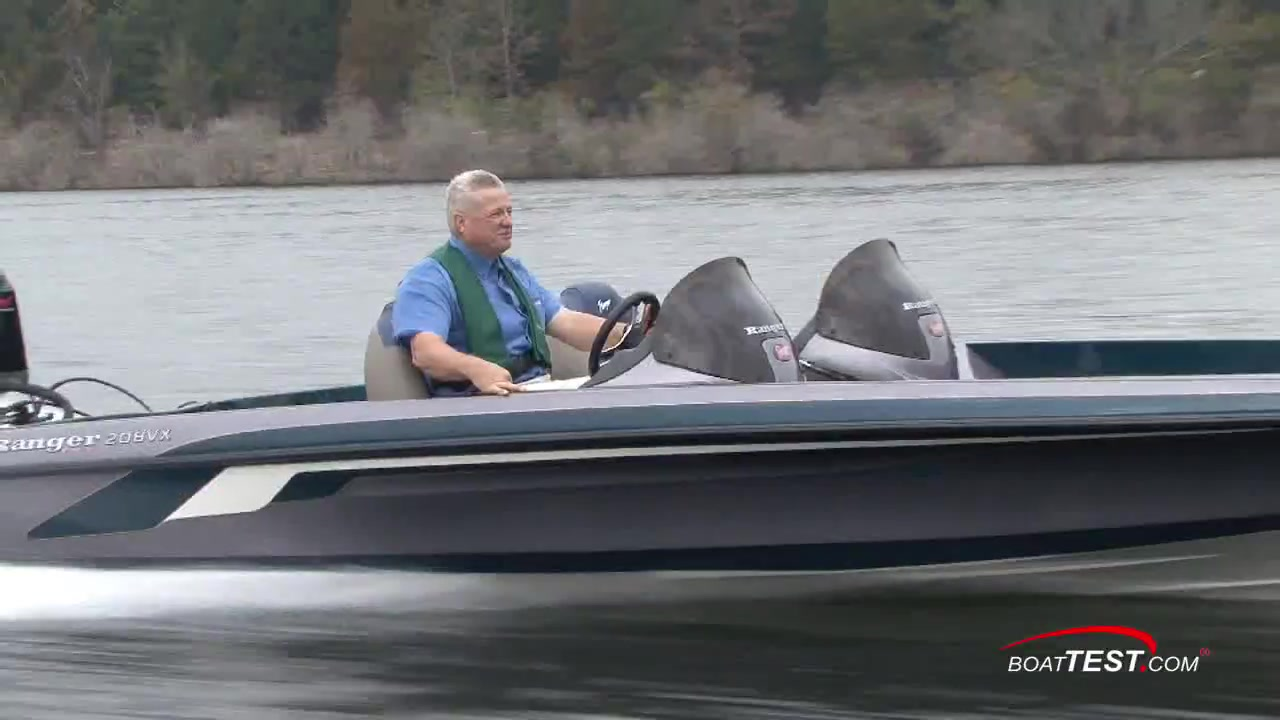boat: (1, 238, 1280, 619)
